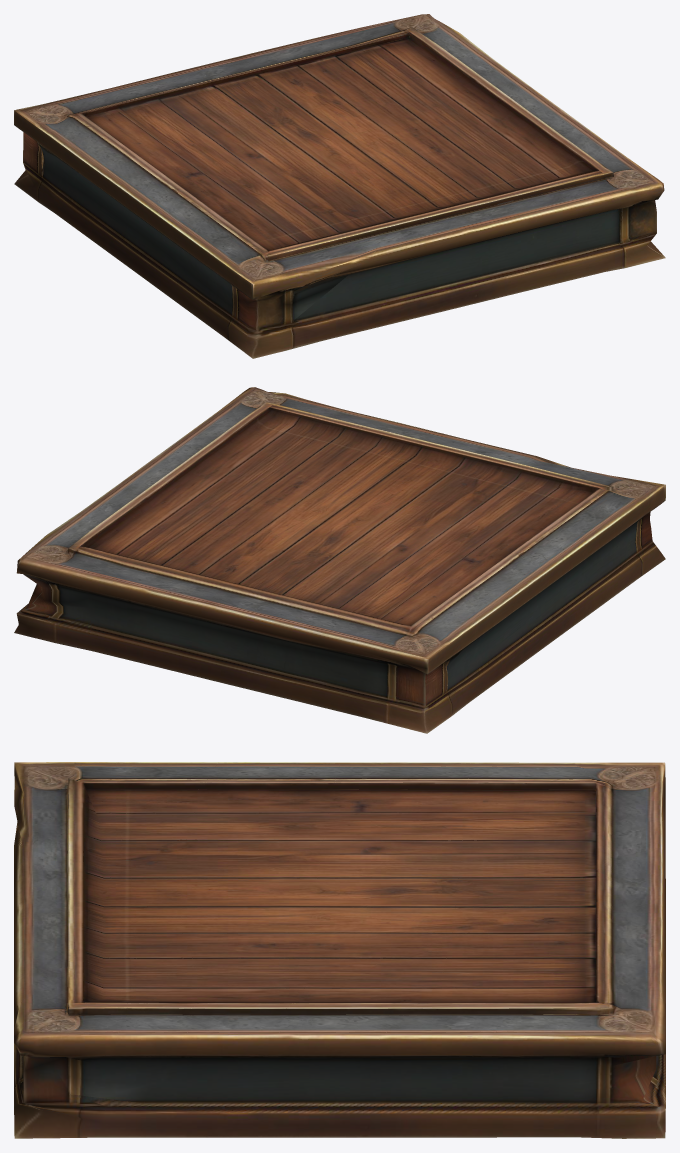
Rendered from Meshy_AI_Ornate_Wooden_Platfor_0220192340_texture.glb.
The picture shows the model from 3 angles, top to bottom: view 1: azimuth 30°, elevation 25°; view 2: azimuth 150°, elevation 25°; view 3: azimuth 270°, elevation 25°; orthographic projection. The views are drawn at different scales.
Visible parts, largest first — view 1: Mesh0; view 2: Mesh0; view 3: Mesh0.
Boxes of the visible parts, x1,y1,x2,y2 form: Mesh0: (14,14,665,358); Mesh0: (14,387,665,733); Mesh0: (14,762,665,1138).
Bounding box in the file's own units: 2 × 0.371 × 2.
1 material, 1 textured.
